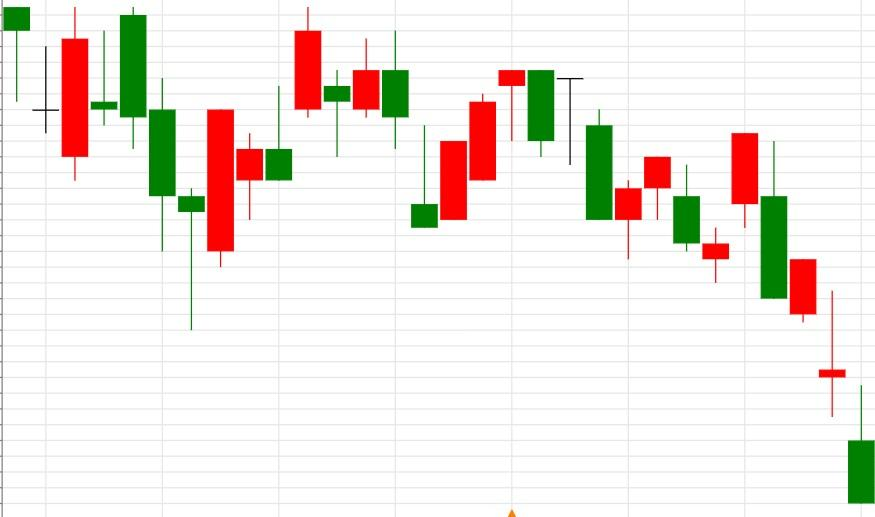inverse_hammer_rise: (294, 6, 438, 229)
